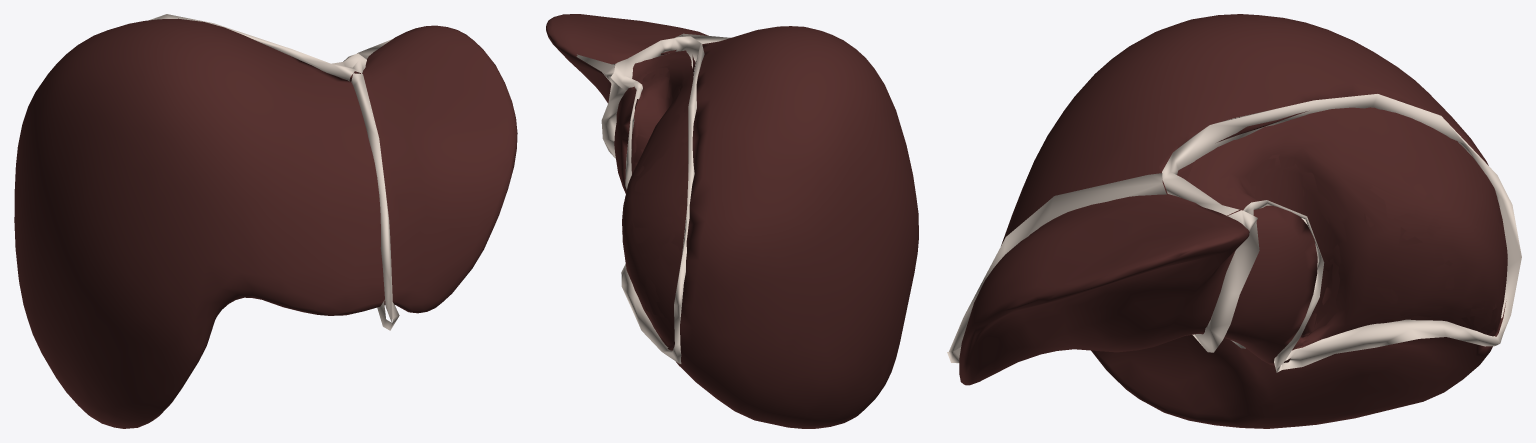
Rendered from vh_m_liver-20.glb.
The picture shows the model from 3 angles, left to right: view 1: azimuth 30°, elevation 25°; view 2: azimuth 150°, elevation 25°; view 3: azimuth 270°, elevation 25°; orthographic projection. The views are drawn at different scales.
Parts seen in each view (by area): view 1: VH_M_liver_capsule, VH_M_falciform_ligament, VH_M_coronary_ligament_of_liver; view 2: VH_M_liver_capsule, VH_M_bare_area_of_liver, VH_M_coronary_ligament_of_liver, VH_M_right_posterosuperior_segment, VH_M_caudate_lobe_of_liver, VH_M_ligamentum_venosum, VH_M_diaphragmatic_surface, VH_M_right_posteroinferior_segment, VH_M_triangular_ligament_of_liver; view 3: VH_M_liver_capsule, VH_M_bare_area_of_liver, VH_M_coronary_ligament_of_liver, VH_M_right_posterosuperior_segment, VH_M_diaphragmatic_surface, VH_M_falciform_ligament, VH_M_caudate_lobe_of_liver, VH_M_ligamentum_venosum.
Boxes of the visible parts, x1,y1,x2,y2 form: VH_M_liver_capsule: (14,18,517,428); VH_M_falciform_ligament: (351,73,393,321); VH_M_coronary_ligament_of_liver: (149,14,366,81); VH_M_liver_capsule: (546,14,918,428); VH_M_bare_area_of_liver: (622,50,692,347); VH_M_coronary_ligament_of_liver: (610,36,704,363); VH_M_right_posterosuperior_segment: (624,101,688,317); VH_M_caudate_lobe_of_liver: (631,53,690,165); VH_M_ligamentum_venosum: (601,78,626,158); VH_M_diaphragmatic_surface: (631,74,680,339); VH_M_right_posteroinferior_segment: (646,310,674,345); VH_M_triangular_ligament_of_liver: (576,54,615,82); VH_M_liver_capsule: (959,14,1506,428); VH_M_bare_area_of_liver: (1177,107,1507,345); VH_M_coronary_ligament_of_liver: (1162,94,1521,372); VH_M_right_posterosuperior_segment: (1337,107,1504,318); VH_M_diaphragmatic_surface: (1227,155,1496,349); VH_M_falciform_ligament: (949,173,1166,351); VH_M_caudate_lobe_of_liver: (1187,126,1366,348); VH_M_ligamentum_venosum: (1192,219,1259,352).
Bounding box in the file's own units: 0.1915 × 0.1746 × 0.2024.
